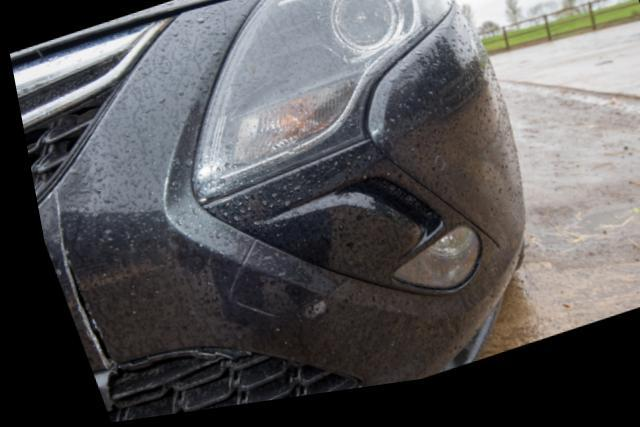crack: (47, 189, 104, 370)
